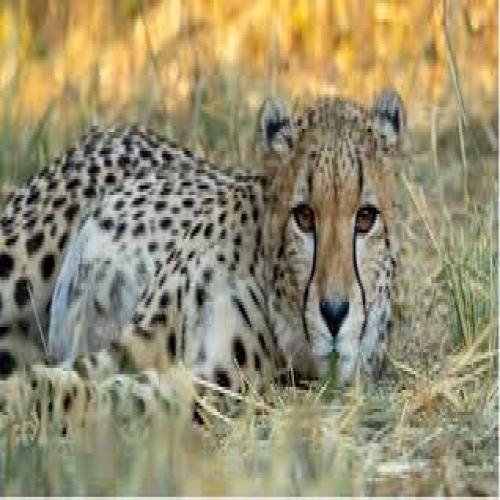cheetah-endangered: (0, 94, 403, 440)
